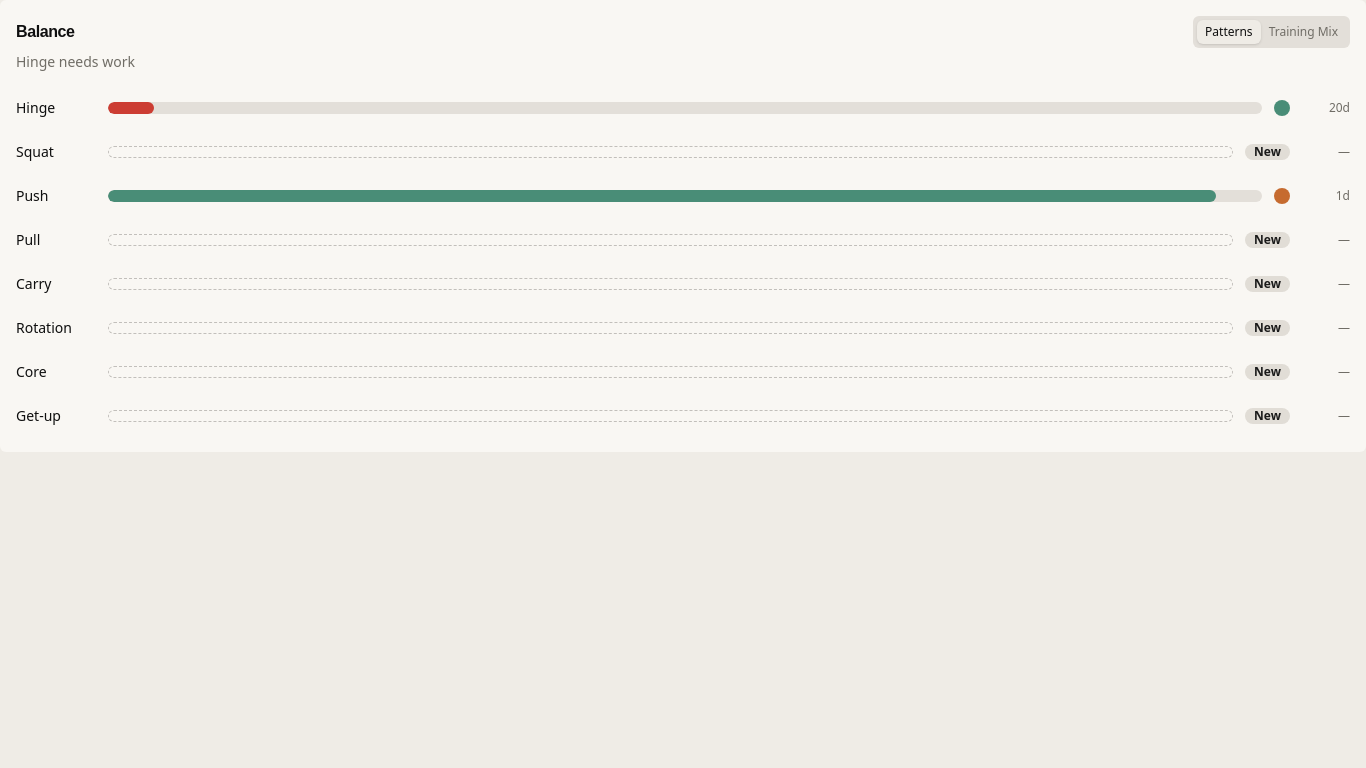
Scenario: TrainingBalance › tapping a trained row reveals its drill-down detail
The width and height of the screenshot is (1366, 768).
Check: the text "Last trained" is not shown
Click the button "Push 1d". click: (683, 196)
box: x1=16 y1=176 x2=1350 y2=216
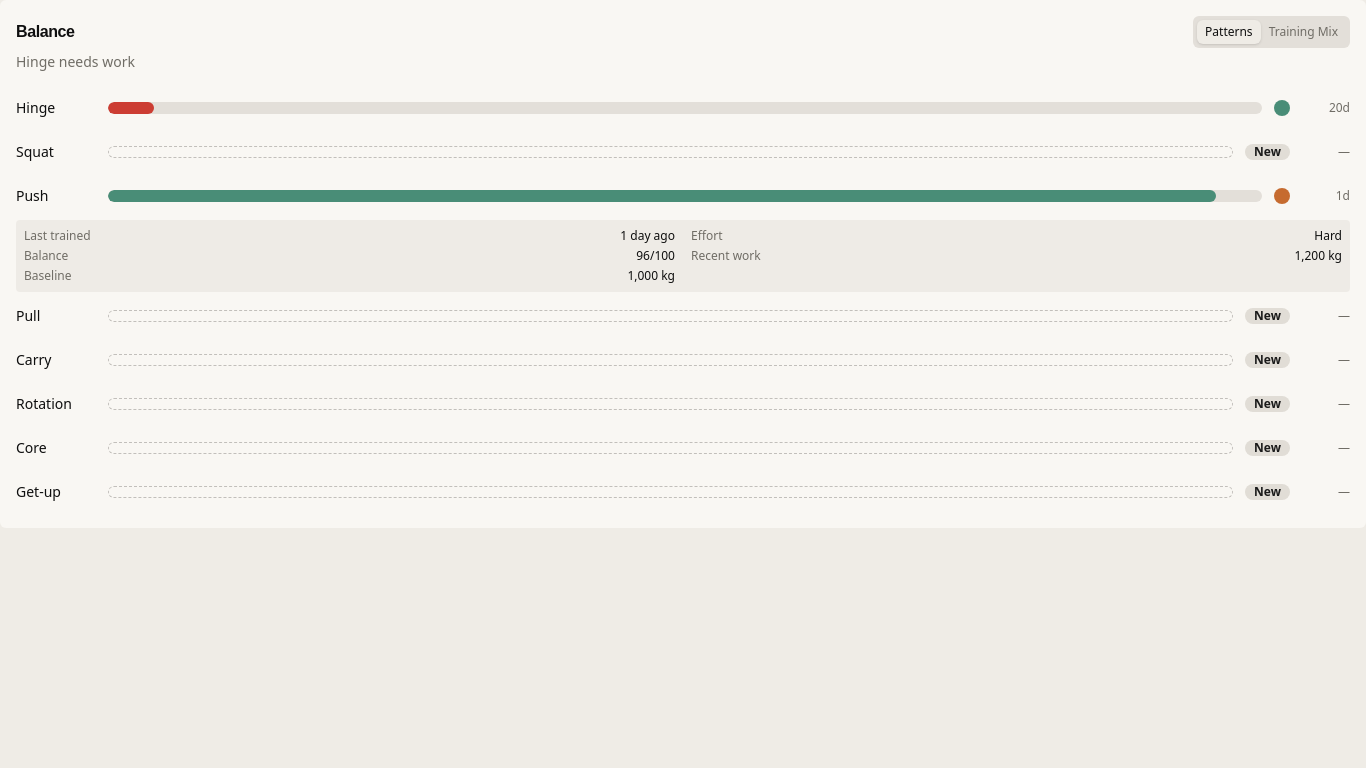
Check: the text "Last trained" is shown, box x1=24 y1=228 x2=91 y2=244
Check: the text "Hard" is shown, box x1=1314 y1=228 x2=1342 y2=244
